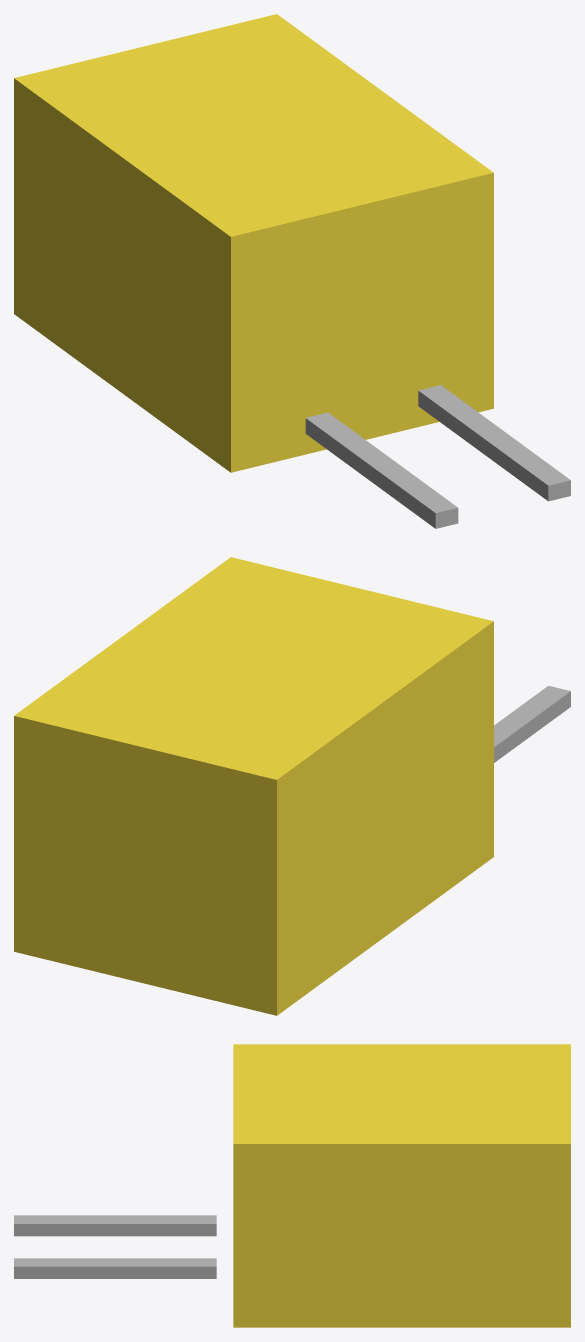
Rendered from forklift_full.gltf.
3 views of the same model, one above another, from view 1: azimuth 30°, elevation 25°; view 2: azimuth 150°, elevation 25°; view 3: azimuth 270°, elevation 25° (orthographic). The views are drawn at different scales.
Parts seen in each view (by area): view 1: forklift_body, forklift_fork_R, forklift_fork_L; view 2: forklift_body, forklift_fork_R; view 3: forklift_body, forklift_fork_R, forklift_fork_L.
Boxes of the visible parts, x1=… form: forklift_body: x1=14, y1=14, x2=493, y2=472; forklift_fork_R: x1=305, y1=412, x2=458, y2=528; forklift_fork_L: x1=418, y1=385, x2=570, y2=501; forklift_body: x1=14, y1=557, x2=493, y2=1015; forklift_fork_R: x1=494, y1=685, x2=570, y2=762; forklift_body: x1=233, y1=1044, x2=570, y2=1327; forklift_fork_R: x1=14, y1=1215, x2=216, y2=1236; forklift_fork_L: x1=14, y1=1258, x2=216, y2=1278.
Bounding box in the file's own units: 1.4 × 1.2 × 3.3.
